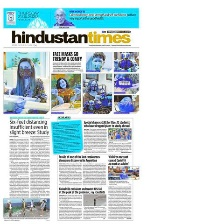news_paper: (1, 3, 142, 223)
